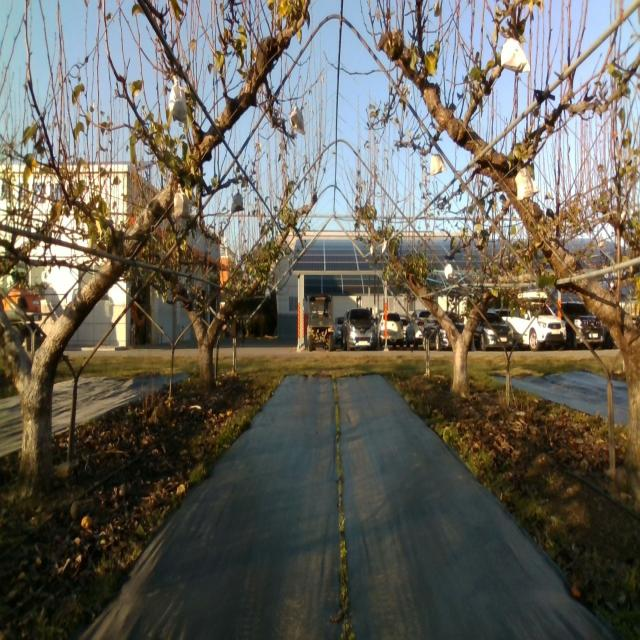pearbags: (500, 38, 530, 73), (169, 74, 187, 124), (515, 167, 540, 200), (173, 184, 190, 218), (289, 106, 305, 136), (430, 152, 446, 176), (231, 190, 244, 214), (444, 259, 455, 281)
